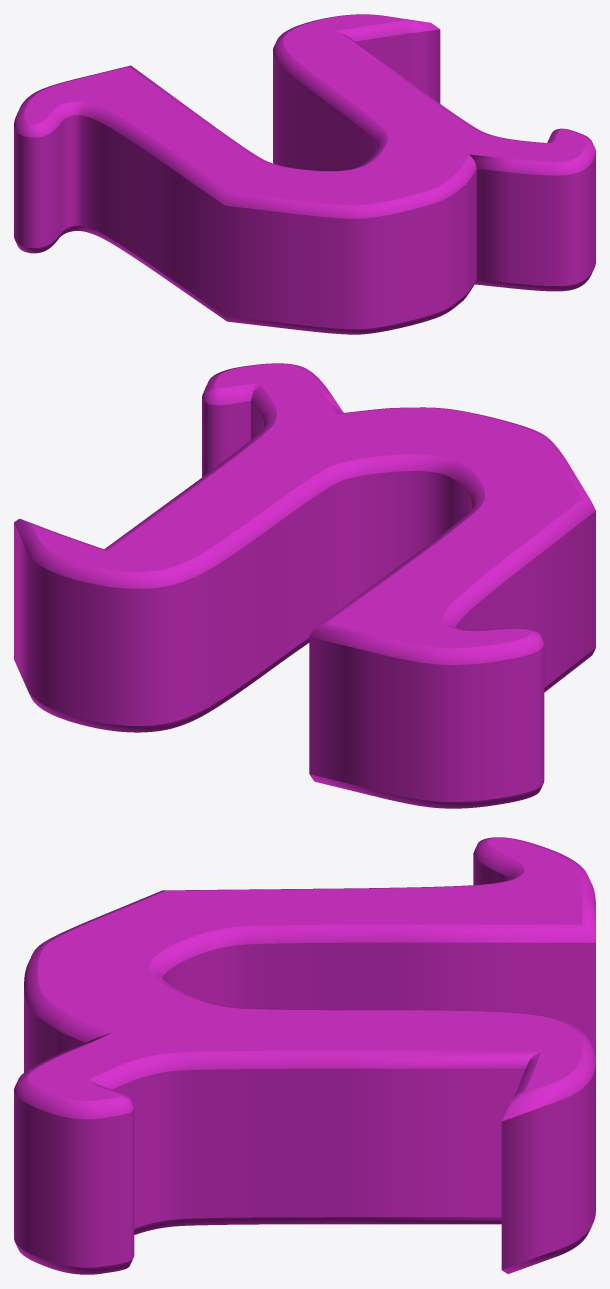
The model's file is Letter_n_Small.fbx.
The picture shows the model from 3 angles, top to bottom: view 1: azimuth 30°, elevation 25°; view 2: azimuth 150°, elevation 25°; view 3: azimuth 270°, elevation 25°; orthographic projection. The views are drawn at different scales.
Parts seen in each view (by area): view 1: Letter_n; view 2: Letter_n; view 3: Letter_n.
Boxes of the visible parts, bbox=[...] form: Letter_n: bbox=[14, 14, 595, 334]; Letter_n: bbox=[14, 363, 595, 808]; Letter_n: bbox=[14, 837, 595, 1274].
Size of the model in its own units: 0.4809 by 0.14 by 0.4264.
